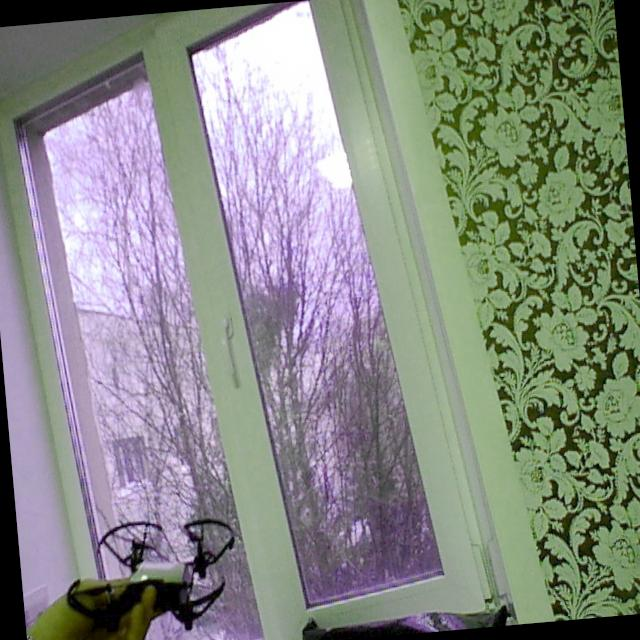drone: (56, 508, 250, 639)
